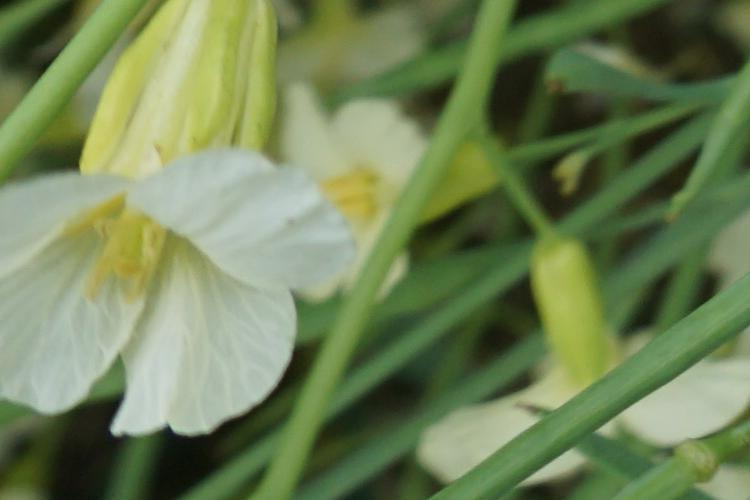white: (7, 32, 359, 430), (442, 237, 750, 470)
